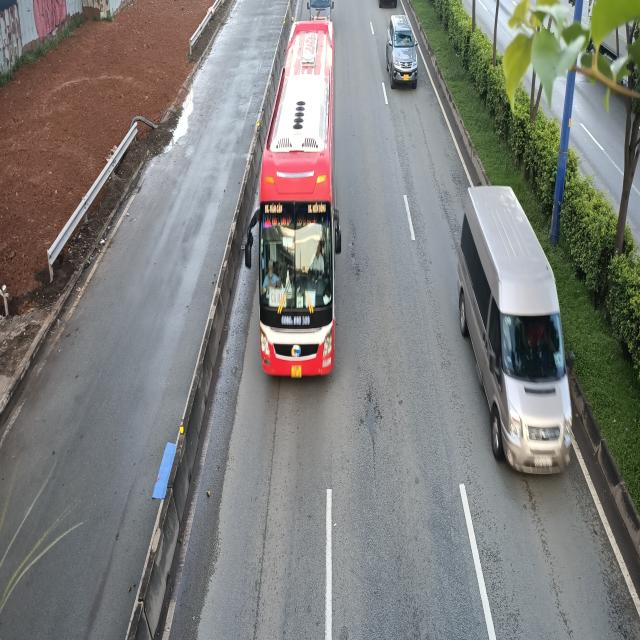car: (388, 16, 419, 89)
coach: (242, 22, 338, 386)
van: (453, 183, 565, 471)
